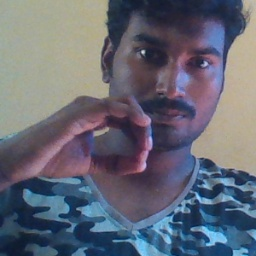O: (23, 91, 159, 189)
